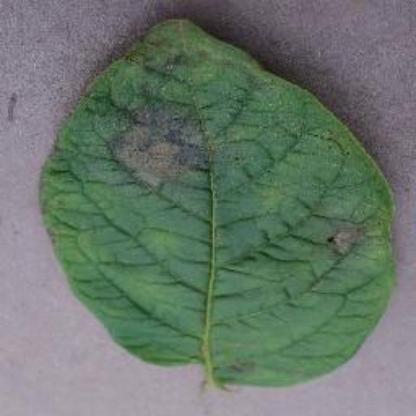Late-Blight: (31, 2, 413, 390)
